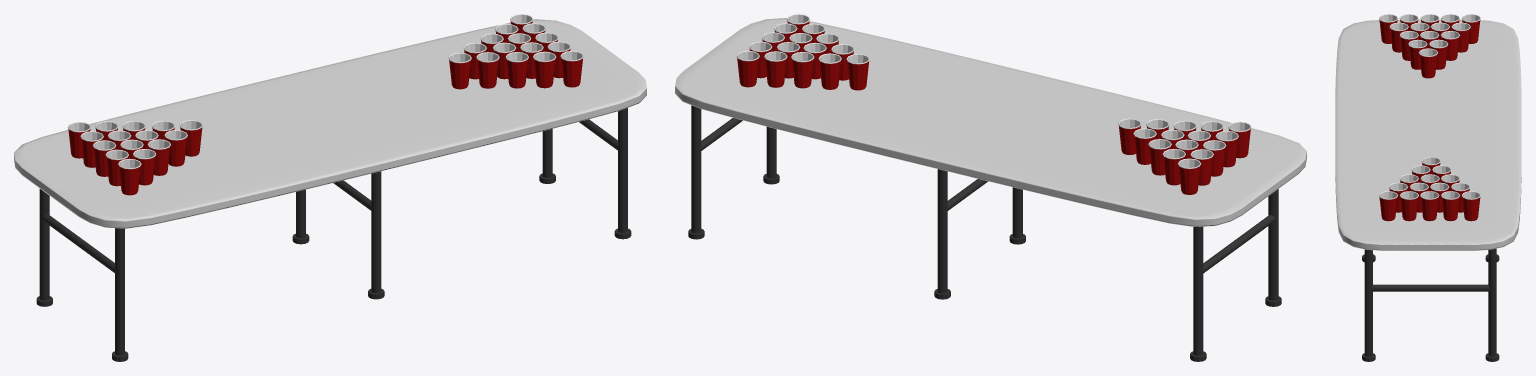
The model's file is sm_BeerPong.fbx.
The picture shows the model from 3 angles, left to right: view 1: azimuth 30°, elevation 25°; view 2: azimuth 150°, elevation 25°; view 3: azimuth 270°, elevation 25°; orthographic projection. The views are drawn at different scales.
Parts seen in each view (by area): view 1: BeerPongSet; view 2: BeerPongSet; view 3: BeerPongSet.
Part boxes in pixels (x1,y1,x2,y2): BeerPongSet: (14,14,646,361); BeerPongSet: (675,14,1306,361); BeerPongSet: (1335,14,1521,361).
Bounding box in the file's own units: 1345 × 415 × 473.
